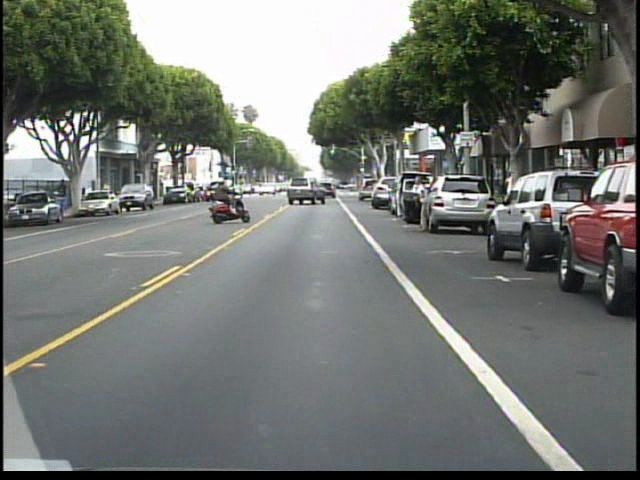person: (416, 171, 439, 237), (204, 174, 236, 219), (56, 176, 73, 213)
